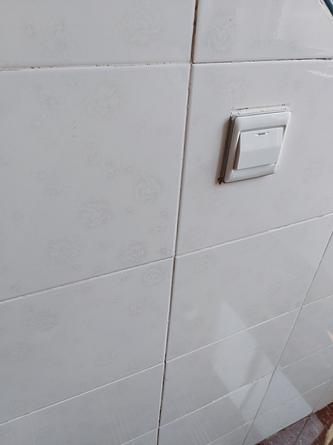switch: (240, 126, 282, 167)
